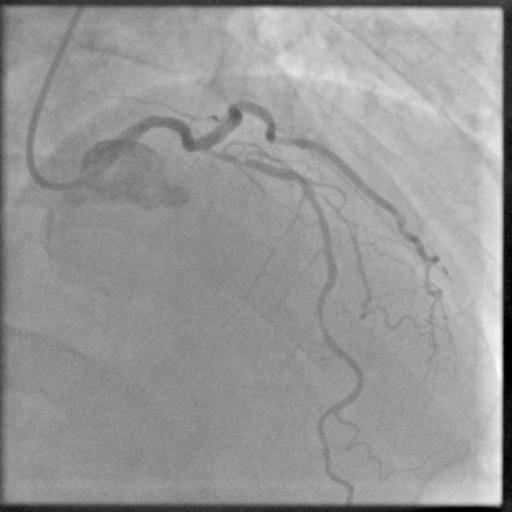Stenosis: (207, 144, 262, 168)
